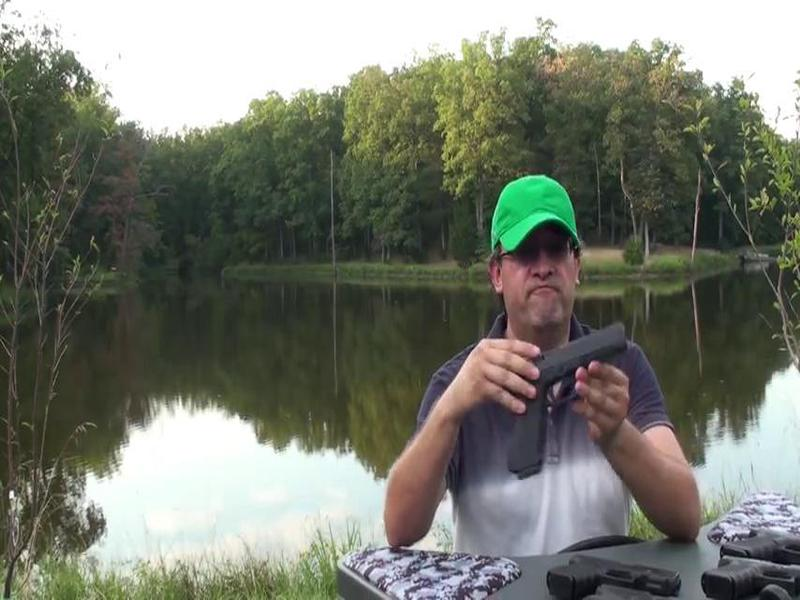Pistola: (472, 311, 655, 501)
